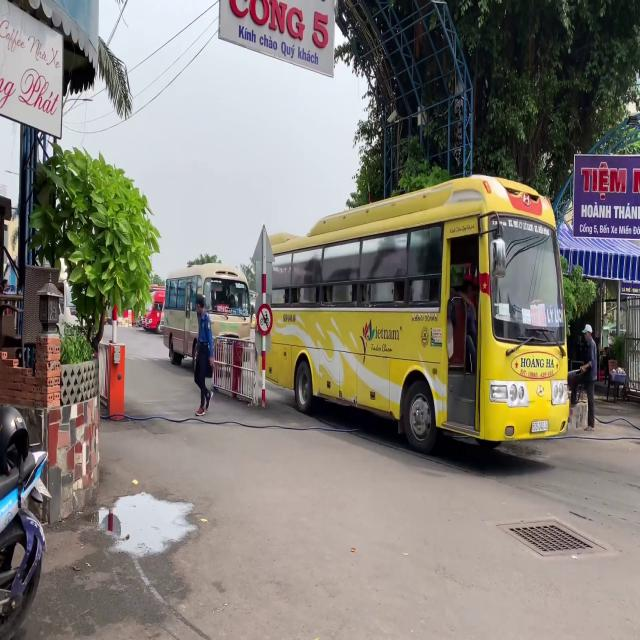bien_trang: (532, 422, 549, 432)
